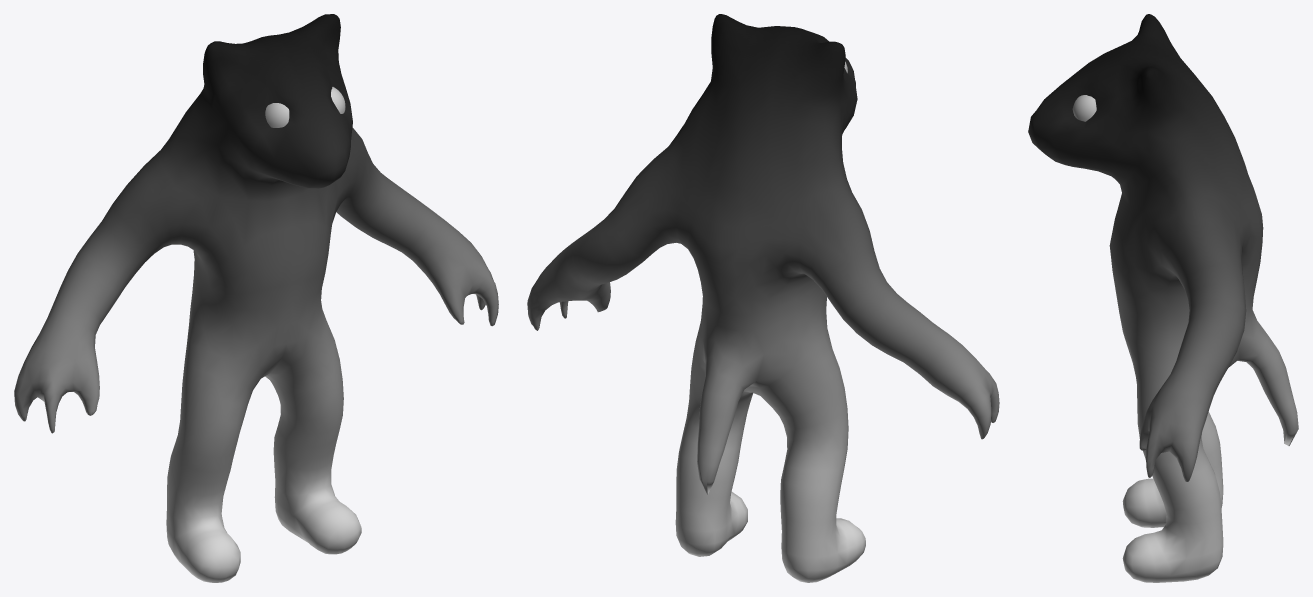
File: Werewolf.fbx
3 renders of one model, left to right at view 1: azimuth 30°, elevation 25°; view 2: azimuth 150°, elevation 25°; view 3: azimuth 270°, elevation 25°, orthographic. The views are drawn at different scales.
Visible parts, largest first — view 1: Werewolf; view 2: Werewolf; view 3: Werewolf.
Boxes of the visible parts, x1,y1,x2,y2 form: Werewolf: (14, 14, 498, 582); Werewolf: (527, 14, 999, 582); Werewolf: (1028, 14, 1298, 582).
Size of the model in its own units: 167 by 181 by 86.97.
